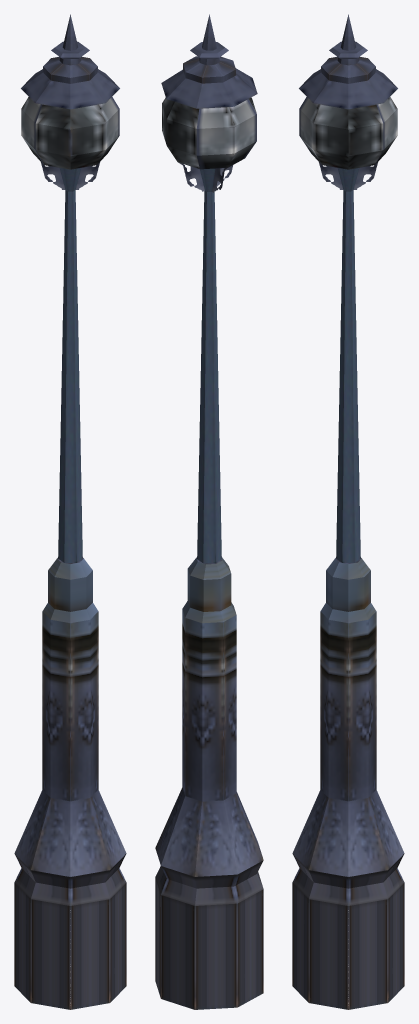
Rendered from OldLantern01b.obj.
3 renders of one model, left to right at view 1: azimuth 90°, elevation 25°; view 2: azimuth 210°, elevation 25°; view 3: azimuth 270°, elevation 25°, orthographic.
Visible parts, largest first — view 1: OldLantern01b; view 2: OldLantern01b; view 3: OldLantern01b.
Part boxes in pixels (x1,y1,x2,y2): OldLantern01b: [14, 14, 126, 1009]; OldLantern01b: [155, 14, 263, 1009]; OldLantern01b: [292, 14, 404, 1009].
Bounding box in the file's own units: 0.4988 × 4.77 × 0.4988.
